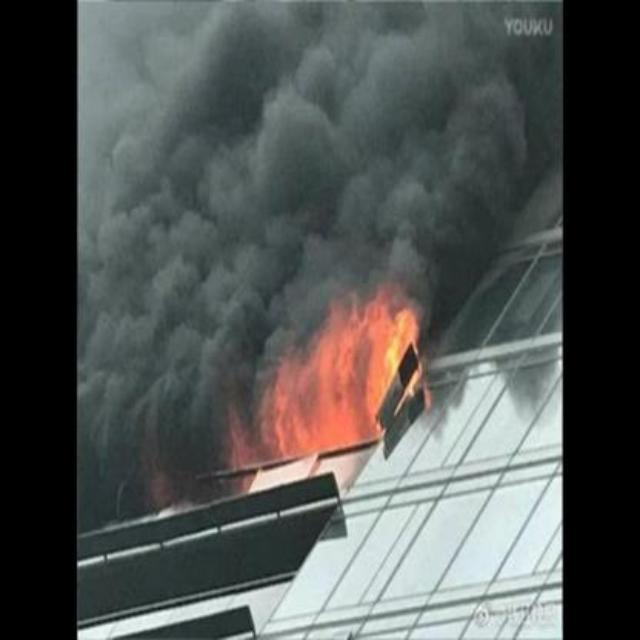Fire: (266, 300, 418, 456)
Smoke: (91, 6, 262, 498), (268, 1, 532, 291)
